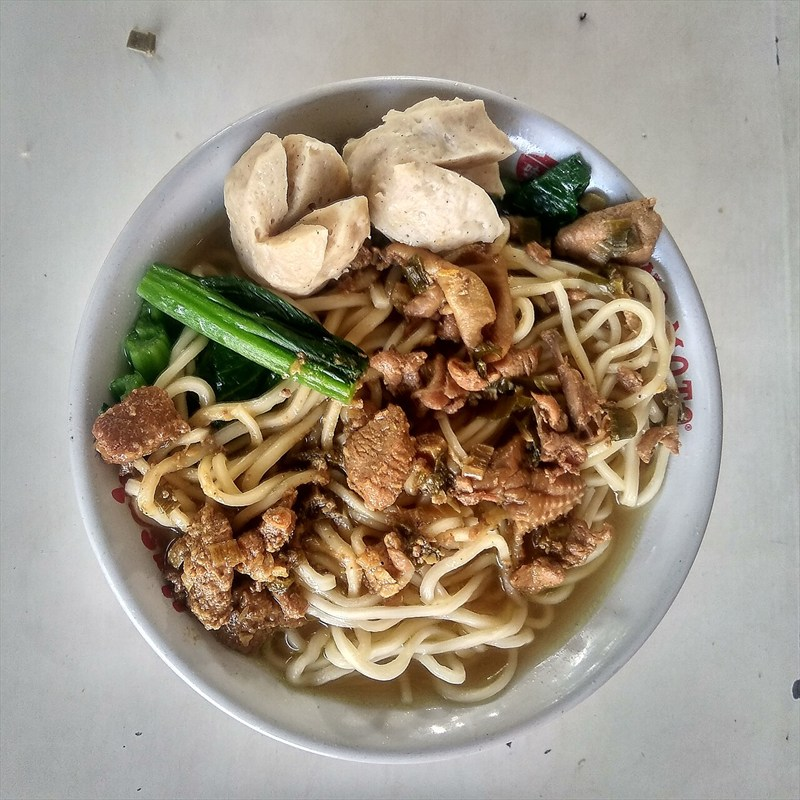Bakso: (132, 165, 653, 661)
